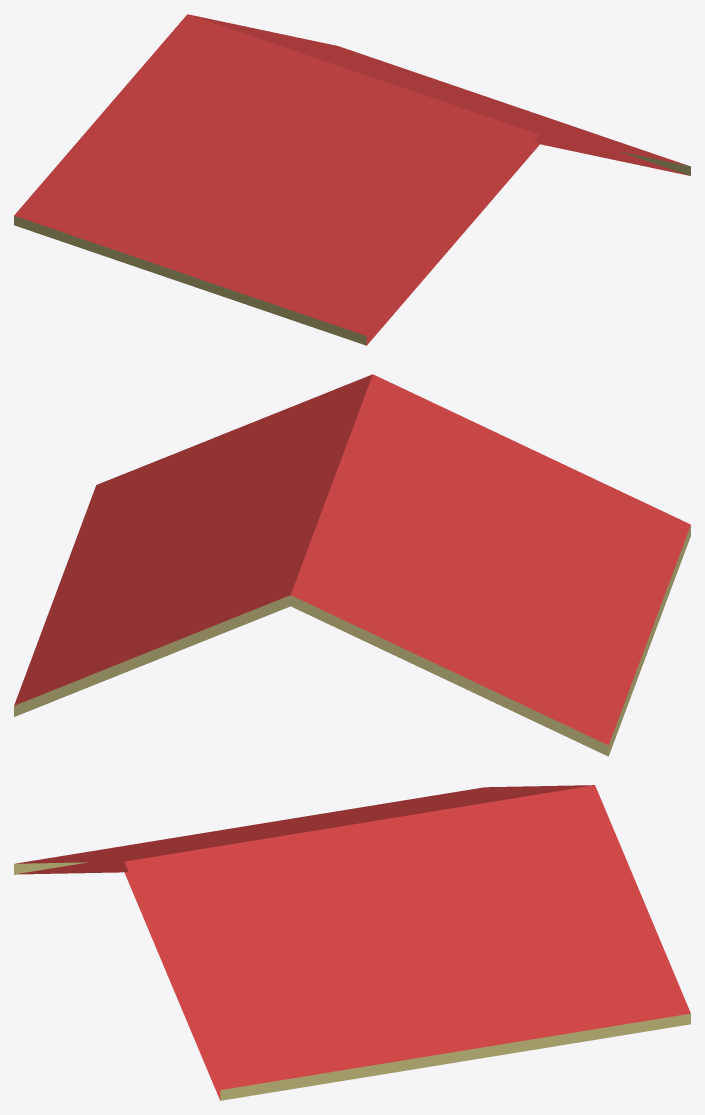
3 renders of one model, top to bottom at view 1: azimuth 30°, elevation 25°; view 2: azimuth 150°, elevation 25°; view 3: azimuth 270°, elevation 25°, orthographic. The views are drawn at different scales.
Size of the model in its own units: 6.06 by 5.72 by 1.25.
